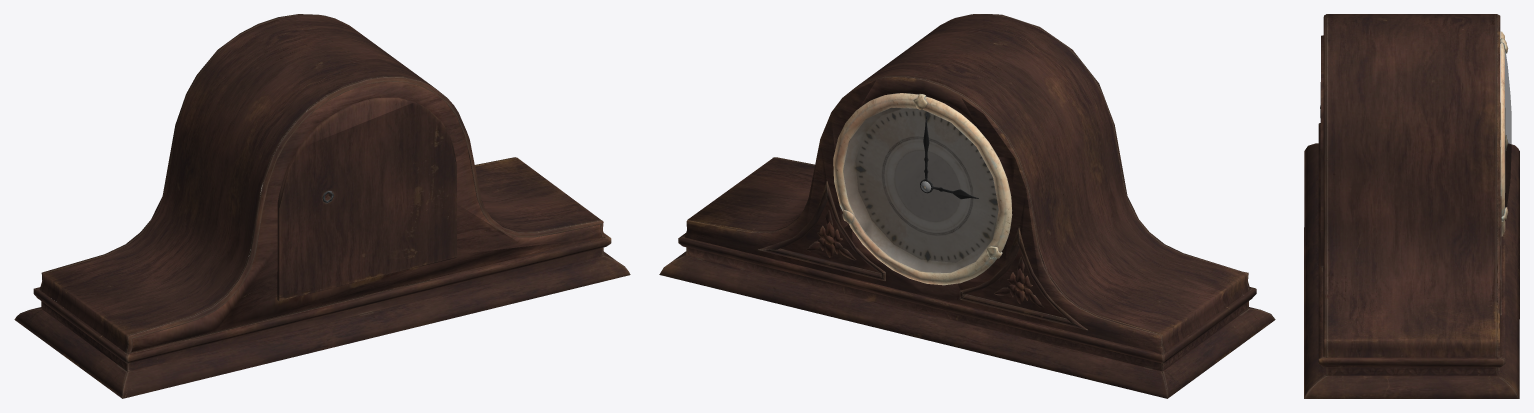
Rendered from mantel_clock.glb.
3 views of the same model, side by side, from view 1: azimuth 30°, elevation 25°; view 2: azimuth 150°, elevation 25°; view 3: azimuth 270°, elevation 25° (orthographic).
Visible parts, largest first — view 1: mantel_clock; view 2: mantel_clock; view 3: mantel_clock.
Part boxes in pixels (x1,y1,x2,y2): mantel_clock: (14, 14, 630, 398); mantel_clock: (659, 14, 1275, 398); mantel_clock: (1304, 14, 1519, 398).
Bounding box in the file's own units: 0.5121 × 0.24 × 0.1885.
2 materials, 2 textured.
